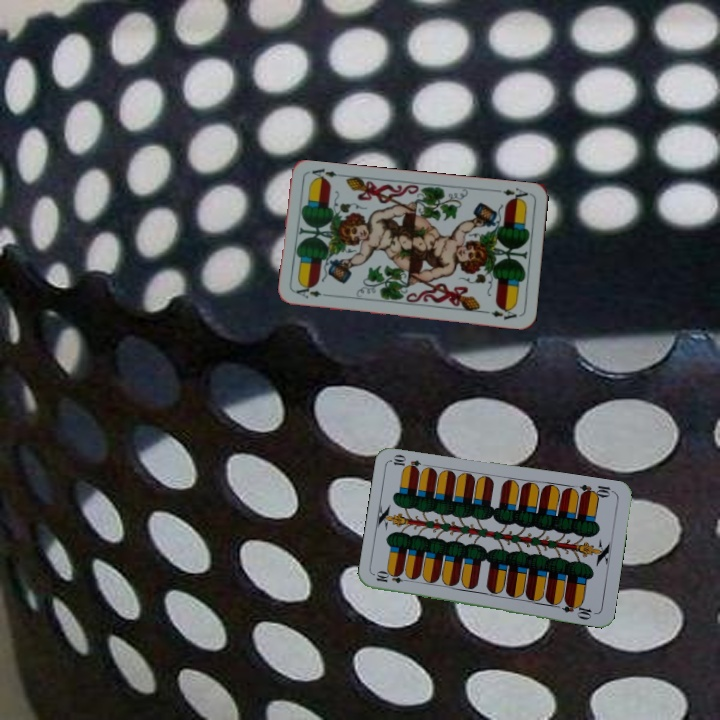E10: (576, 480, 617, 501), (372, 569, 413, 586)
EA: (492, 184, 532, 205), (292, 284, 333, 301)
